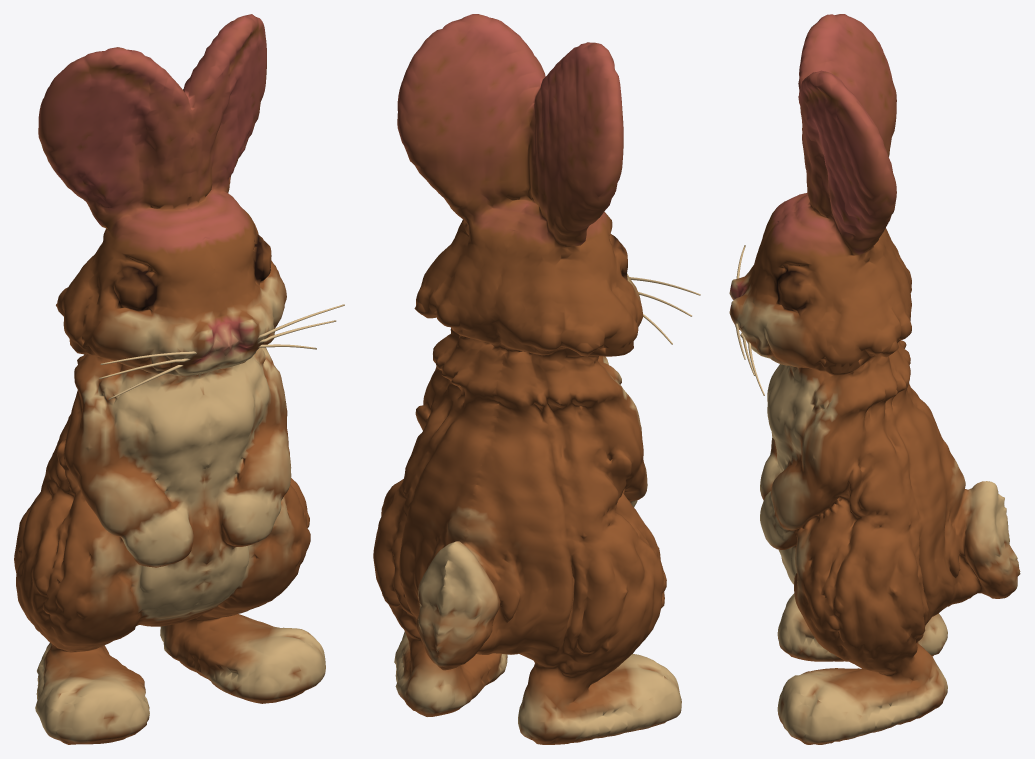
File: asset.glb
3 renders of one model, left to right at view 1: azimuth 30°, elevation 25°; view 2: azimuth 150°, elevation 25°; view 3: azimuth 270°, elevation 25°, orthographic. The views are drawn at different scales.
Parts seen in each view (by area): view 1: Rabbit_Neural_Body; view 2: Rabbit_Neural_Body; view 3: Rabbit_Neural_Body.
Boxes of the visible parts, left/top/right/bottom form: Rabbit_Neural_Body: left=14, top=14, right=325, bottom=744; Rabbit_Neural_Body: left=373, top=14, right=681, bottom=744; Rabbit_Neural_Body: left=729, top=14, right=1020, bottom=744.
Size of the model in its own units: 1.55 by 3.6 by 1.48.
